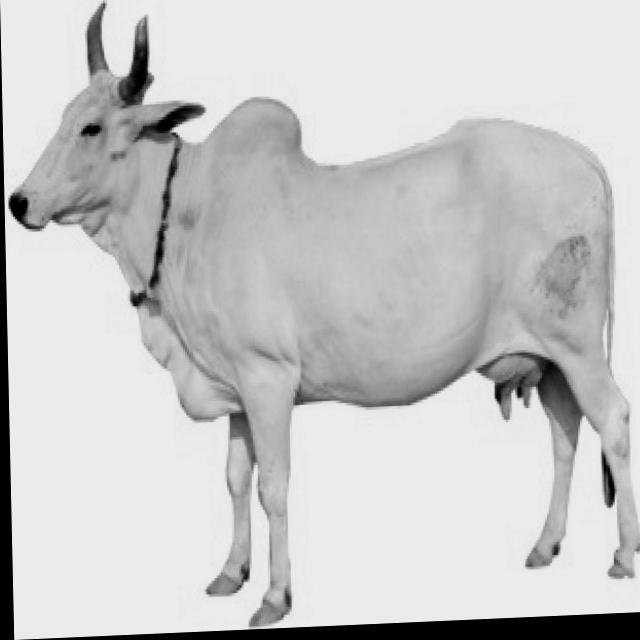Cow: (2, 0, 640, 637)
